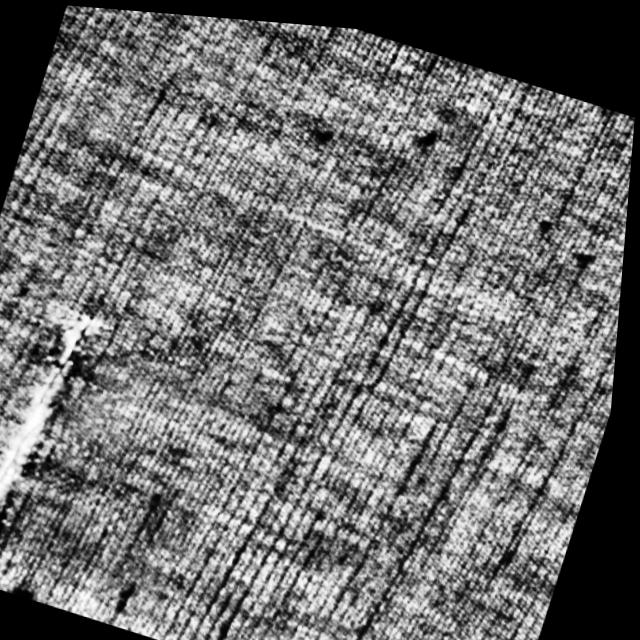Hole: (0, 282, 124, 601)
